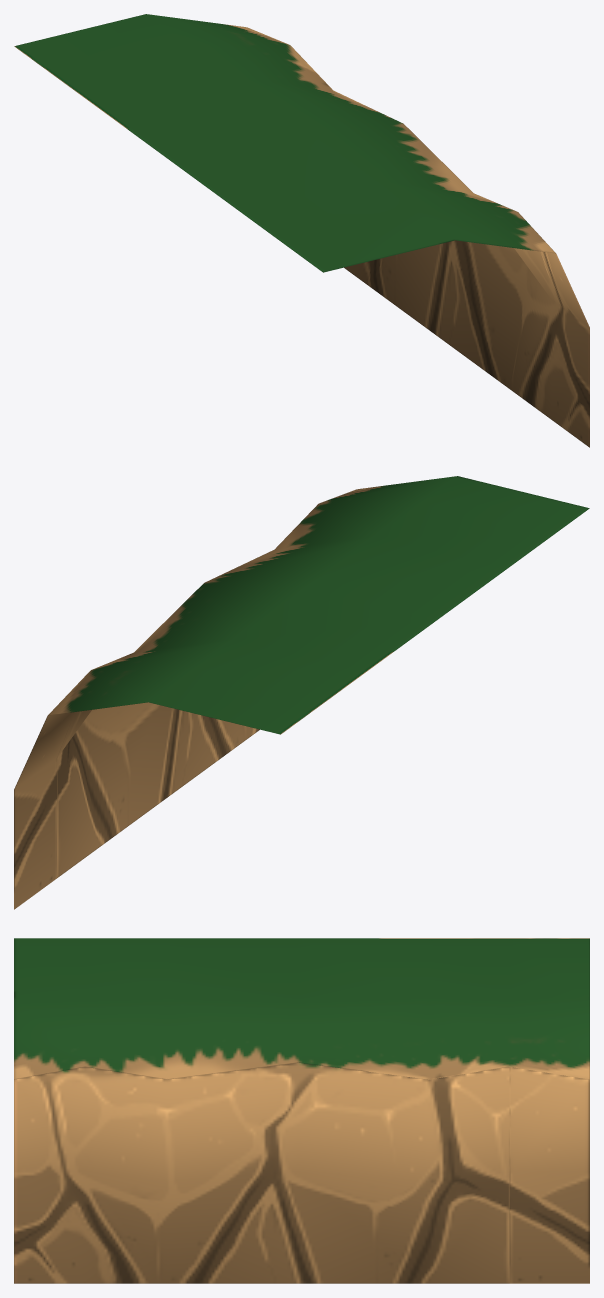
Rendered from Jump Small Ledge.obj.
3 renders of one model, top to bottom at view 1: azimuth 30°, elevation 25°; view 2: azimuth 150°, elevation 25°; view 3: azimuth 270°, elevation 25°, orthographic. The views are drawn at different scales.
Parts seen in each view (by area): view 1: Cube.003_Cube.005; view 2: Cube.003_Cube.005; view 3: Cube.003_Cube.005.
Boxes of the visible parts, <box> form: Cube.003_Cube.005: <box>14,14,589,447</box>; Cube.003_Cube.005: <box>14,476,589,909</box>; Cube.003_Cube.005: <box>14,938,589,1283</box>.
Size of the model in its own units: 1.08 by 0.8577 by 2.
